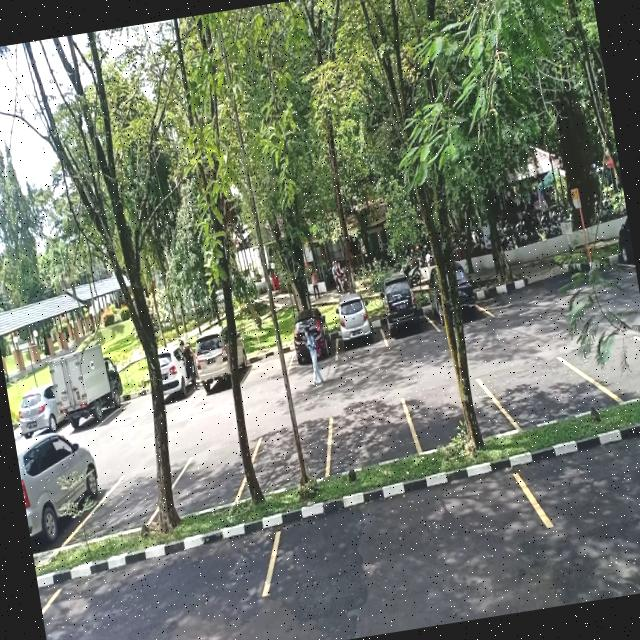empty: (266, 473, 544, 597), (36, 538, 277, 636), (497, 352, 601, 431), (406, 376, 506, 454), (325, 398, 419, 475), (248, 416, 336, 493), (90, 459, 166, 541), (169, 444, 252, 516), (240, 340, 297, 388)
occupied: (18, 444, 108, 554), (186, 338, 252, 399), (329, 302, 388, 360), (378, 288, 434, 346), (286, 319, 341, 375)
